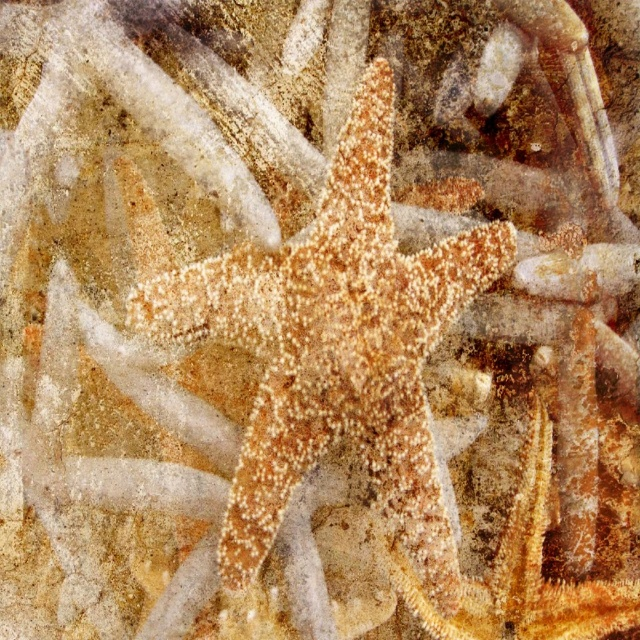Starfish: (124, 58, 640, 640)
